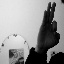f: (36, 1, 61, 46)
